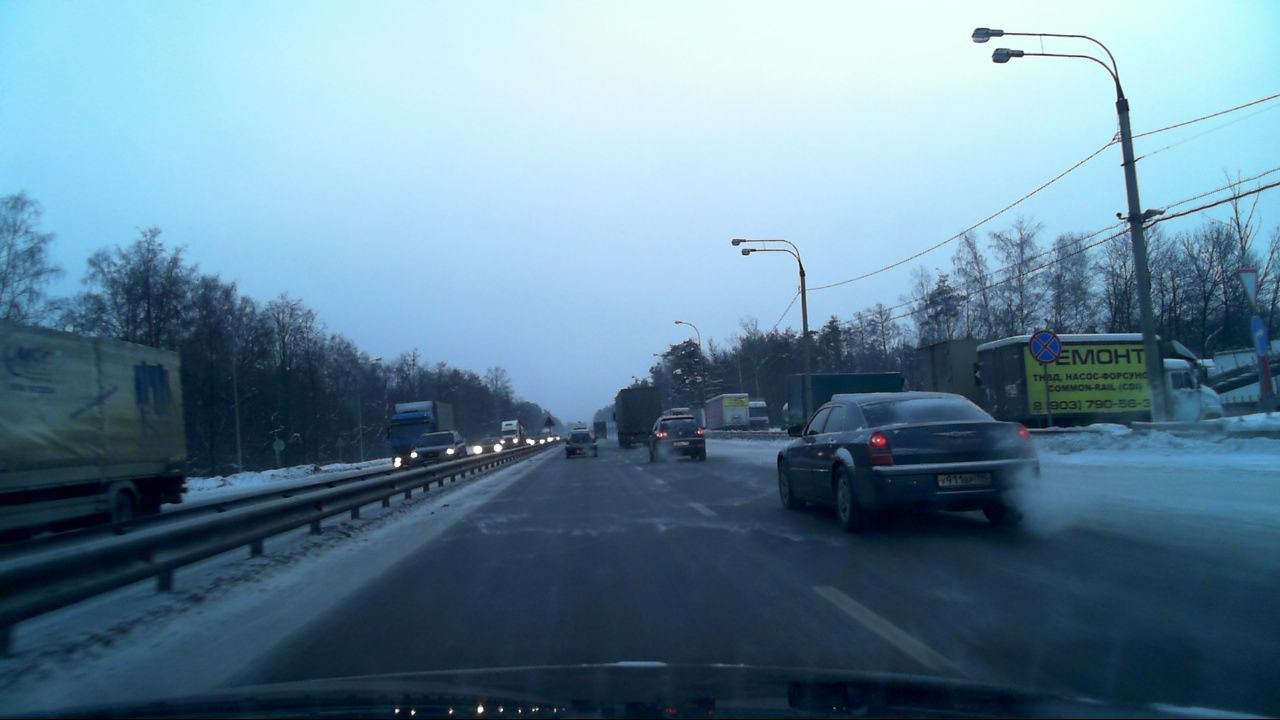No Parking: (1029, 327, 1061, 365)
